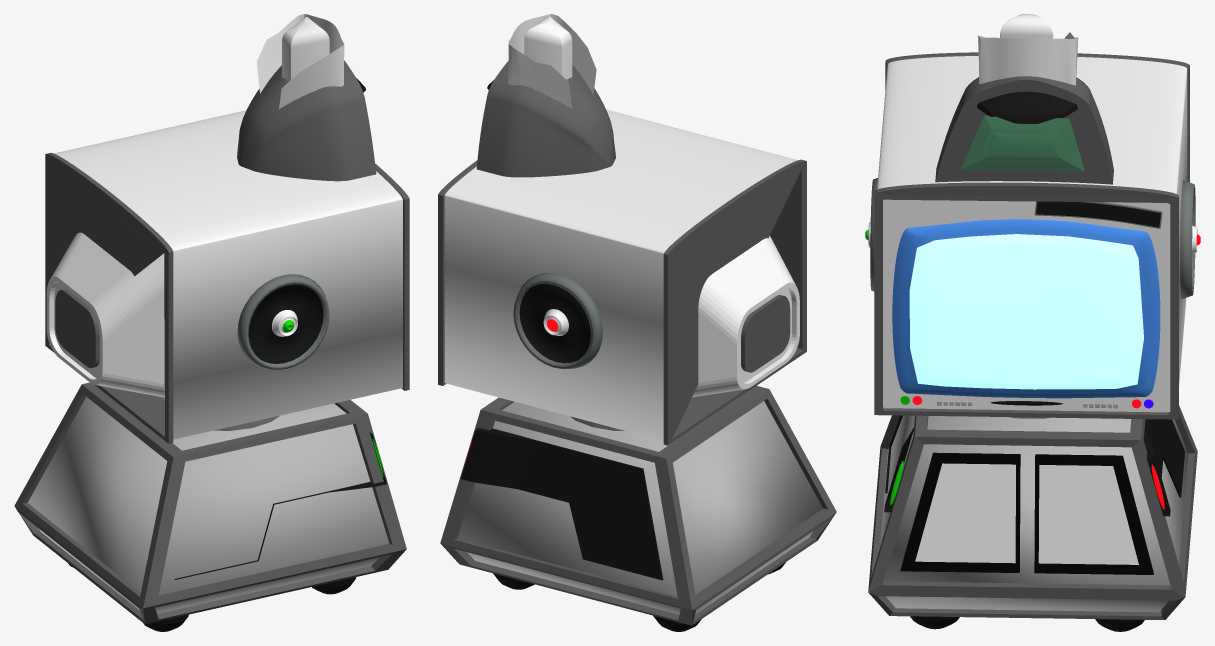
The model's file is RobotSister 1.dae.
3 views of the same model, side by side, from view 1: azimuth 30°, elevation 25°; view 2: azimuth 150°, elevation 25°; view 3: azimuth 270°, elevation 25° (orthographic). The views are drawn at different scales.
Parts seen in each view (by area): view 1: Television.002, Moottori.003, Head.004, Head.003, Head.005; view 2: Television.002, Moottori.003, Head.004, Head.003, Head.005; view 3: Moottori.003, Television.002, NurseScreen.001, Head.004, Head.003, Head.005.
Boxes of the visible parts, x1,y1,x2,y2 form: Television.002: (45,110,409,443); Moottori.003: (14,382,406,631); Head.004: (237,34,376,181); Head.003: (256,14,344,108); Head.005: (257,14,343,106); Television.002: (438,109,806,445); Moottori.003: (440,386,836,631); Head.004: (476,54,615,177); Head.003: (508,14,596,108); Head.005: (508,14,596,106); Moottori.003: (868,405,1197,631); Television.002: (865,52,1200,419); NurseScreen.001: (892,219,1160,398); Head.004: (935,27,1113,184); Head.003: (977,14,1078,85); Head.005: (978,14,1077,84).
Bounding box in the file's own units: 1.53 × 1.38 × 2.81.
